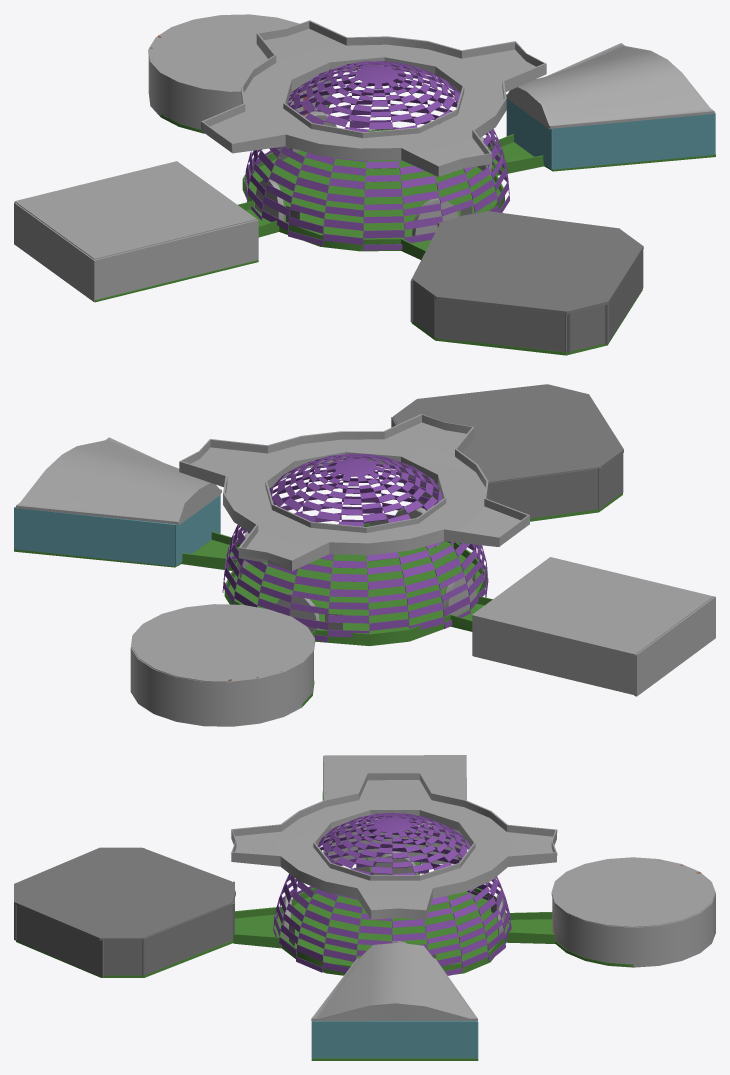
The model's file is salafinal.fbx.
3 views of the same model, one above another, from view 1: azimuth 30°, elevation 25°; view 2: azimuth 150°, elevation 25°; view 3: azimuth 270°, elevation 25° (orthographic). The views are drawn at different scales.
Visible parts, largest first — view 1: polySurface2702, pSphere1, polySurface2701, polySurface2704, PISO, polySurface2700, polySurface2739, polySurface2690, polySurface2696, polySurface2703, polySurface2705, pCube112; view 2: polySurface2702, pSphere1, polySurface2701, polySurface2704, PISO, polySurface2703, polySurface2700, polySurface2739, polySurface2696, polySurface2705, polySurface2690, pCube104; view 3: polySurface2702, pSphere1, polySurface2701, PISO, polySurface2703, polySurface2700, polySurface2690, polySurface2705, polySurface2696, polySurface2704, polySurface2739, pCube104.
Part boxes in pixels (box(x1,y1,x2,y2)): polySurface2702: box(201, 20, 546, 176); pSphere1: box(245, 61, 509, 250); polySurface2701: box(412, 211, 643, 314); polySurface2704: box(14, 161, 256, 259); PISO: box(95, 104, 715, 355); polySurface2700: box(506, 43, 714, 129); polySurface2739: box(14, 202, 258, 302); polySurface2690: box(410, 210, 643, 353); polySurface2696: box(506, 97, 715, 169); polySurface2703: box(148, 14, 299, 94); polySurface2705: box(148, 56, 331, 133); pCube112: box(412, 198, 458, 242); polySurface2702: box(179, 414, 529, 571); pSphere1: box(222, 453, 488, 642); polySurface2701: box(393, 384, 623, 482); polySurface2704: box(471, 557, 713, 656); PISO: box(14, 471, 624, 706); polySurface2703: box(132, 604, 314, 684); polySurface2700: box(16, 437, 221, 524); polySurface2739: box(472, 596, 715, 696); polySurface2696: box(14, 495, 220, 566); polySurface2705: box(130, 624, 313, 726); polySurface2690: box(391, 417, 623, 518); pCube104: box(443, 574, 476, 616); polySurface2702: box(231, 772, 557, 919); pSphere1: box(273, 812, 511, 975); polySurface2701: box(14, 847, 235, 940); PISO: box(16, 791, 633, 1060); polySurface2703: box(551, 857, 715, 927); polySurface2700: box(311, 942, 477, 1021); polySurface2690: box(14, 848, 234, 977); polySurface2705: box(552, 883, 715, 967); polySurface2696: box(311, 1021, 478, 1058); polySurface2704: box(325, 755, 466, 826); polySurface2739: box(323, 755, 465, 864); pCube104: box(372, 851, 418, 875).
Size of the model in its own units: 336 by 64.14 by 370.
